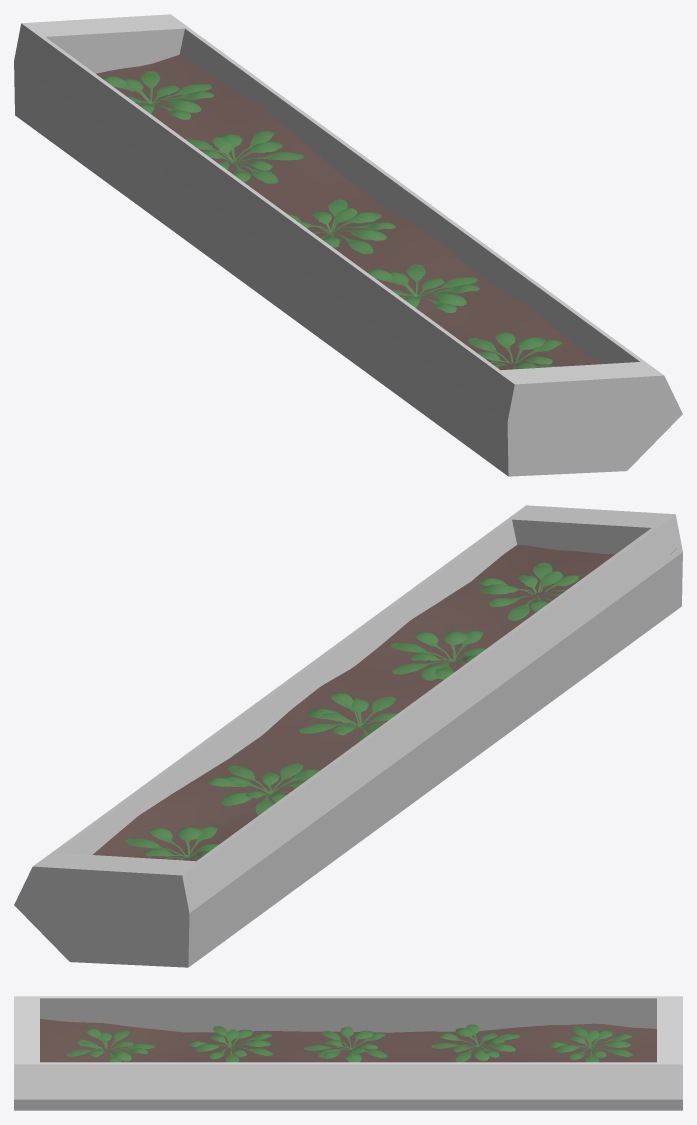
File: Maceta (Pared).fbx
3 views of the same model, one above another, from view 1: azimuth 30°, elevation 25°; view 2: azimuth 150°, elevation 25°; view 3: azimuth 270°, elevation 25° (orthographic). The views are drawn at different scales.
Visible parts, largest first — view 1: Maceta.001, Plane.004, Plane.010, Plane.011, Plane.013, Plane.012, Plane.014; view 2: Maceta.001, Plane.004, Plane.013, Plane.010, Plane.014, Plane.011, Plane.012; view 3: Maceta.001, Plane.004, Plane.013, Plane.010, Plane.012, Plane.011, Plane.014.
Boxes of the visible parts, box(x1,y1,x2,y2) form: Maceta.001: box(14, 14, 682, 476); Plane.004: box(96, 55, 601, 370); Plane.010: box(185, 131, 303, 183); Plane.011: box(287, 199, 395, 254); Plane.013: box(367, 264, 479, 312); Plane.012: box(102, 71, 213, 119); Plane.014: box(468, 332, 562, 369); Maceta.001: box(14, 505, 682, 967); Plane.004: box(93, 544, 676, 860); Plane.013: box(390, 630, 485, 680); Plane.010: box(206, 763, 319, 815); Plane.014: box(478, 562, 578, 620); Plane.011: box(299, 692, 396, 740); Plane.012: box(125, 826, 218, 860); Maceta.001: box(14, 996, 682, 1110); Plane.004: box(40, 1018, 656, 1062); Plane.013: box(188, 1026, 272, 1062); Plane.010: box(431, 1024, 519, 1062); Plane.012: box(548, 1026, 632, 1062); Plane.011: box(304, 1027, 387, 1062); Plane.014: box(67, 1028, 154, 1062).
Size of the model in its own units: 23.03 by 14.3 by 112.
